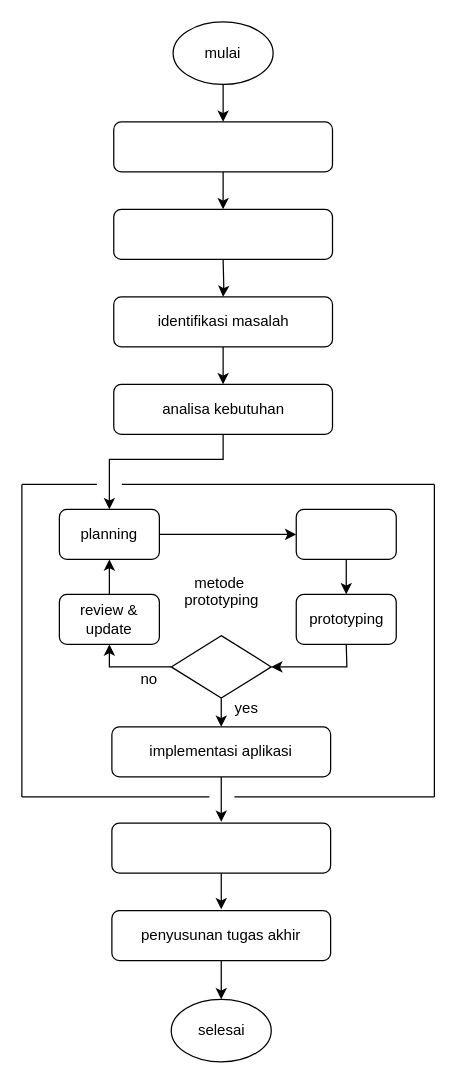
The diagram is 458 pixels wide and 1084 high, and some of its shapes have lost their labels. The shapes that lost their labels are listed below. From the top down, each one's centre as x and y in pixels, then its label:
At (222,146): "menentukan topik dan judul".
At (222,233): "pengumpulan data".
At (345,533): "analysis".
At (220,666): "evaluasi".
At (221,847): "pengujian".
